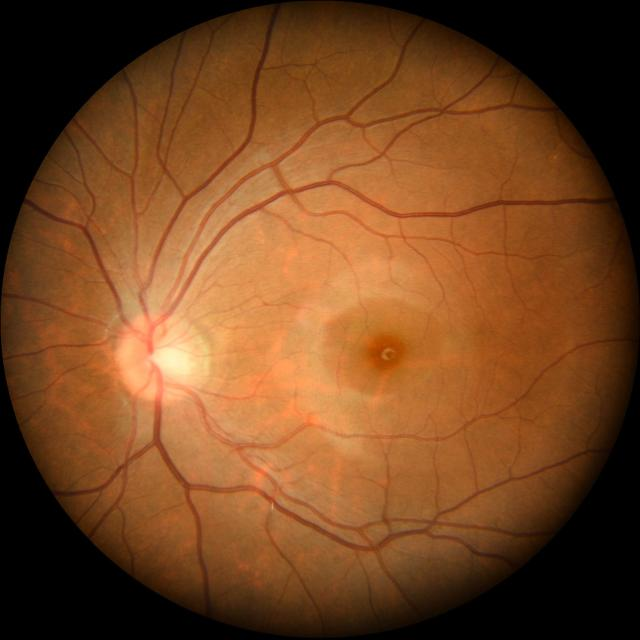OC: (149, 343, 188, 383)
OD: (114, 312, 204, 402)
